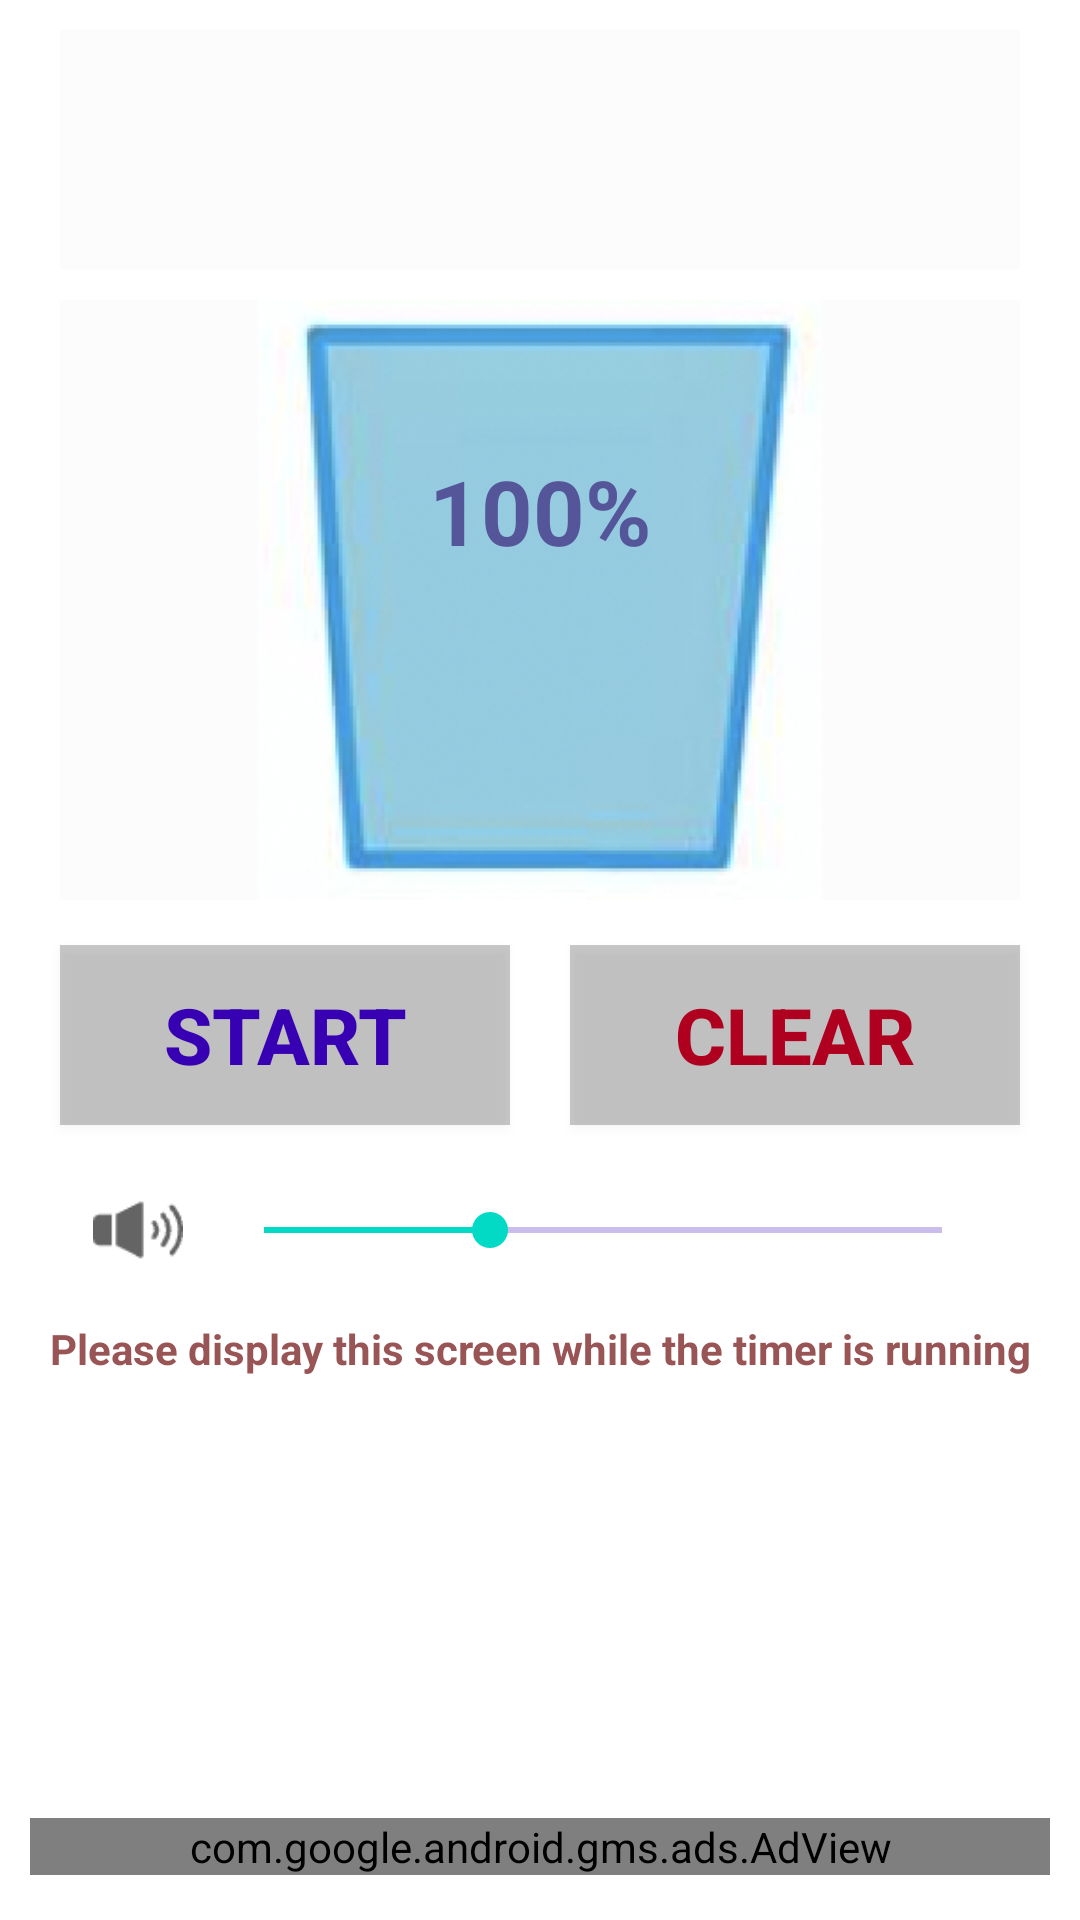

Screen size 1080*1920. Icon name, then its center in pixels as [x,y]:
volume: [138,1230]
